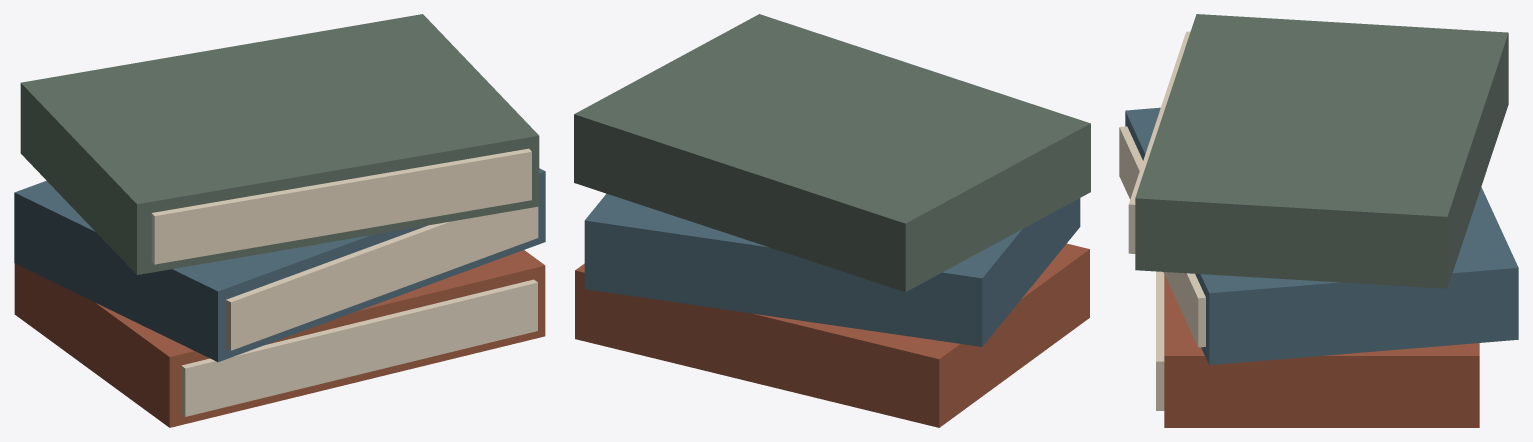
File: book_stack.glb
3 views of the same model, side by side, from view 1: azimuth 30°, elevation 25°; view 2: azimuth 150°, elevation 25°; view 3: azimuth 270°, elevation 25° (orthographic). The views are drawn at different scales.
Parts seen in each view (by area): view 1: Book cover.002, Book cover.001, Book cover, Page block.002, Page block, Page block.001; view 2: Book cover.002, Book cover, Book cover.001; view 3: Book cover.002, Book cover.001, Book cover, Page block.001, Page block.002, Page block.
Part boxes in pixels (x1,y1,x2,y2): Book cover.002: [20, 14, 539, 274]; Book cover.001: [14, 168, 545, 362]; Book cover: [14, 250, 545, 427]; Page block.002: [151, 148, 531, 264]; Page block: [181, 279, 537, 416]; Page block.001: [226, 206, 538, 350]; Book cover.002: [574, 14, 1090, 292]; Book cover: [575, 243, 1089, 427]; Book cover.001: [584, 193, 1080, 346]; Book cover.002: [1135, 14, 1508, 288]; Book cover.001: [1125, 107, 1518, 364]; Book cover: [1164, 274, 1479, 427]; Page block.001: [1119, 126, 1205, 347]; Page block.002: [1128, 31, 1190, 253]; Page block: [1156, 271, 1164, 410].
Bounding box in the file's own units: 0.2359 × 0.116 × 0.1913.
